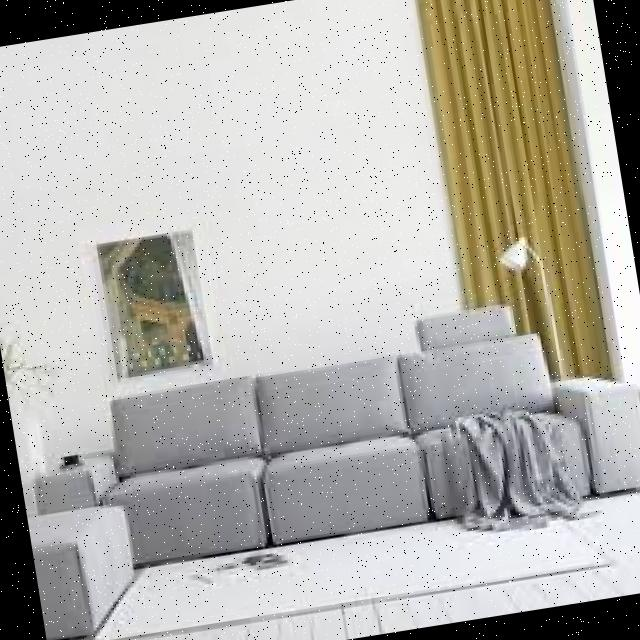Sofa: (4, 271, 640, 640)
